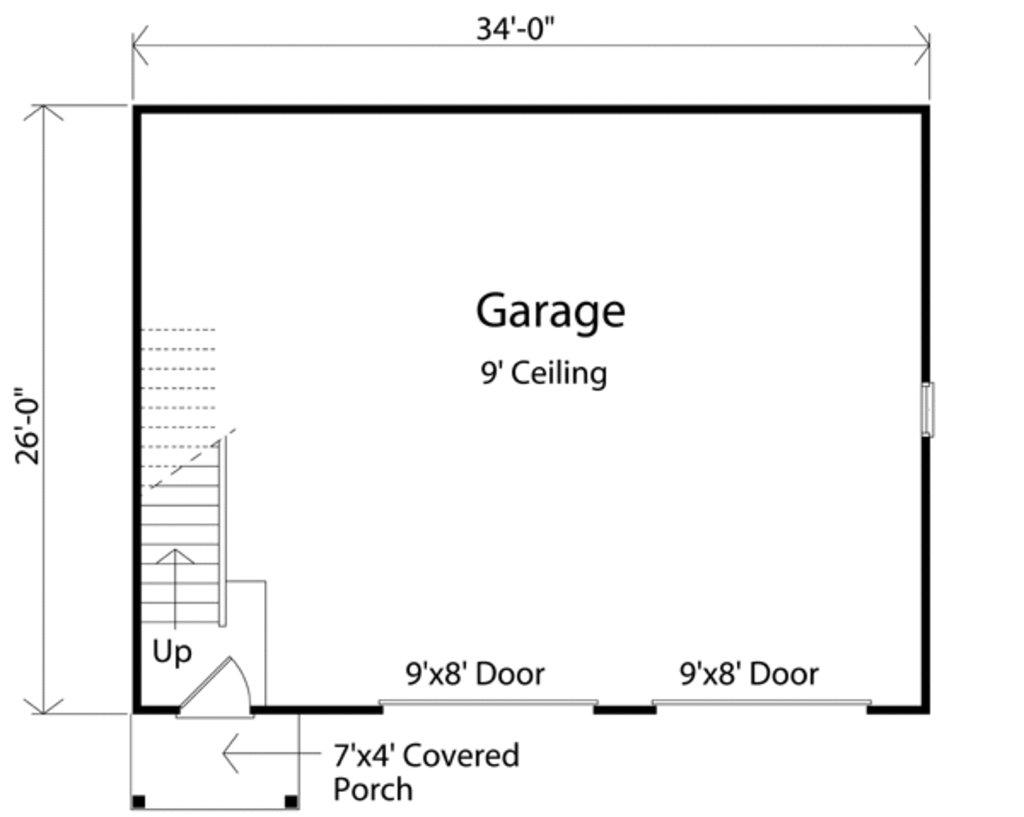door: (158, 637, 265, 720)
stairs: (139, 320, 236, 639)
window: (918, 382, 937, 438)
